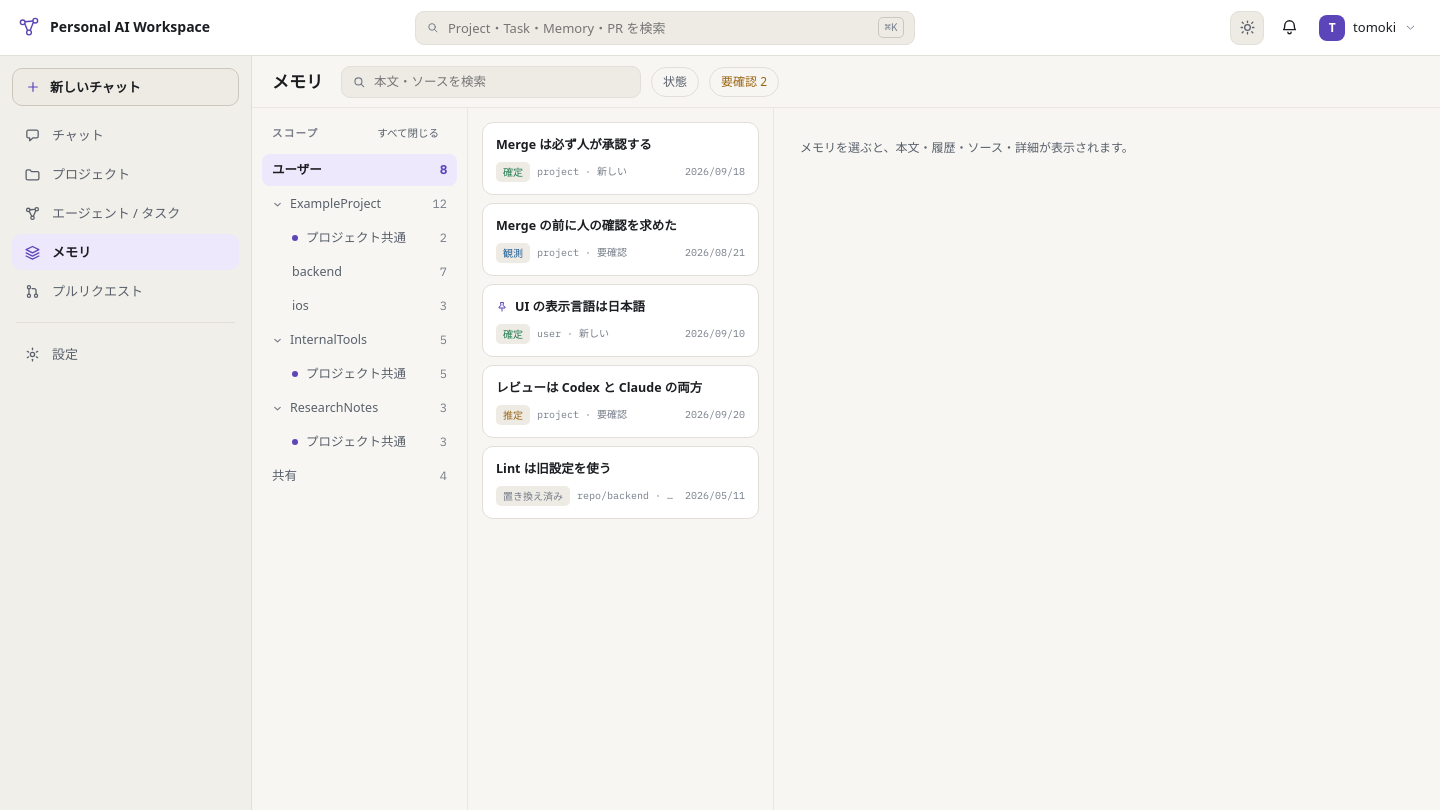
Test: Memory screen › filters by status and by 要確認
Click the button "要確認 2" at (744, 82), box [709,66,779,96]
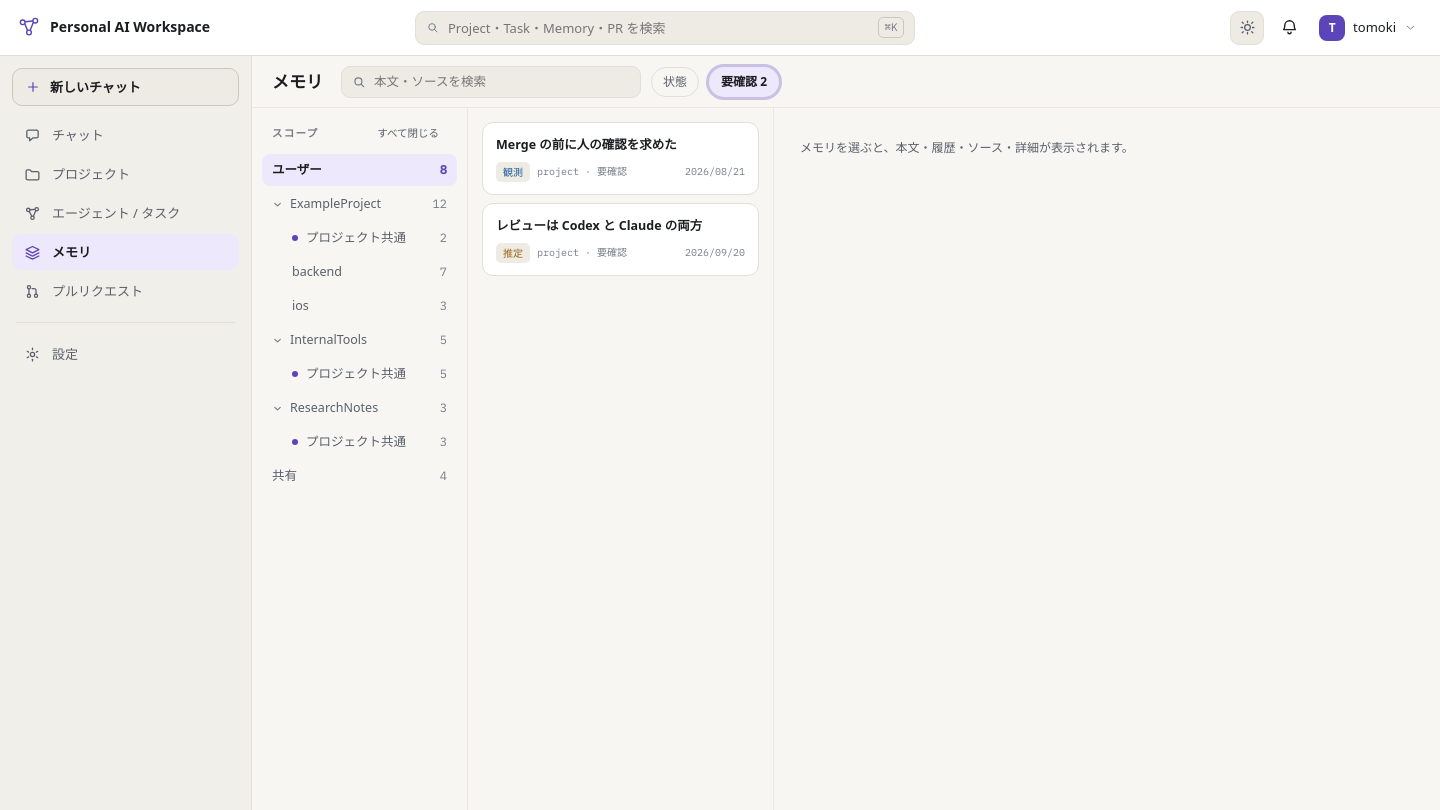
Click the button "要確認 2" at (744, 82), box [709,66,779,96]
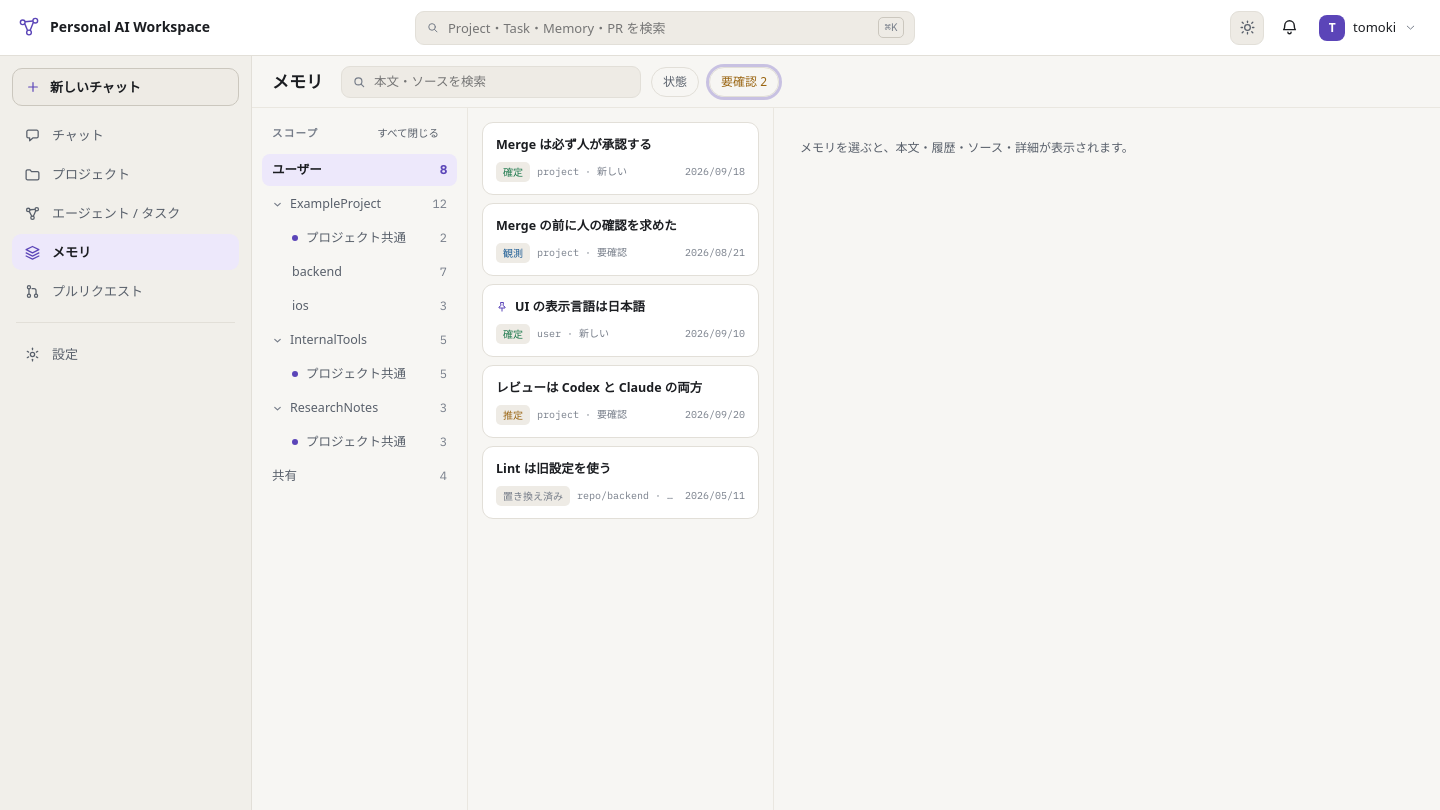
Click the button "状態" at (675, 82), box [651,66,699,96]
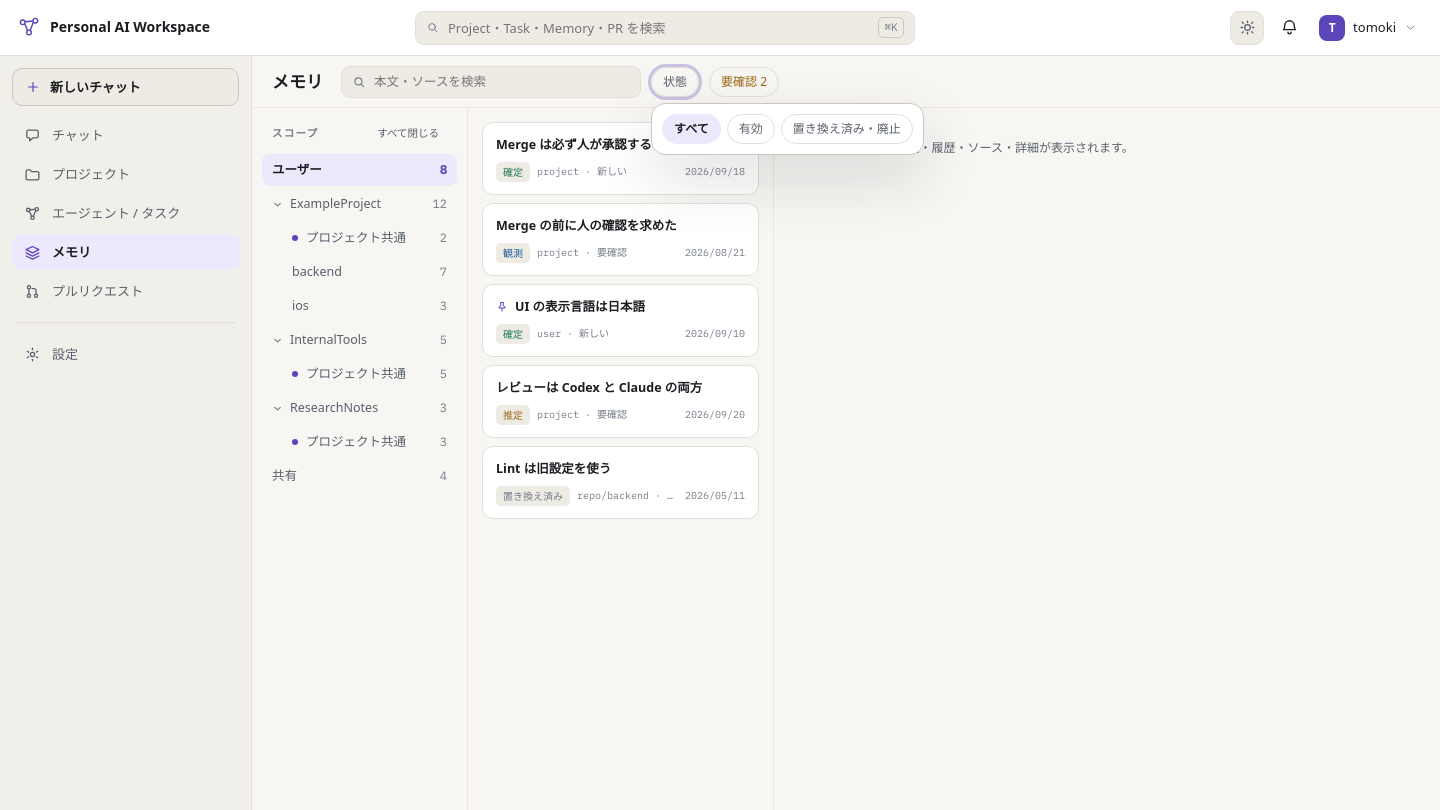
Click the button "置き換え済み・廃止" at (847, 128), box [781,114,913,144]
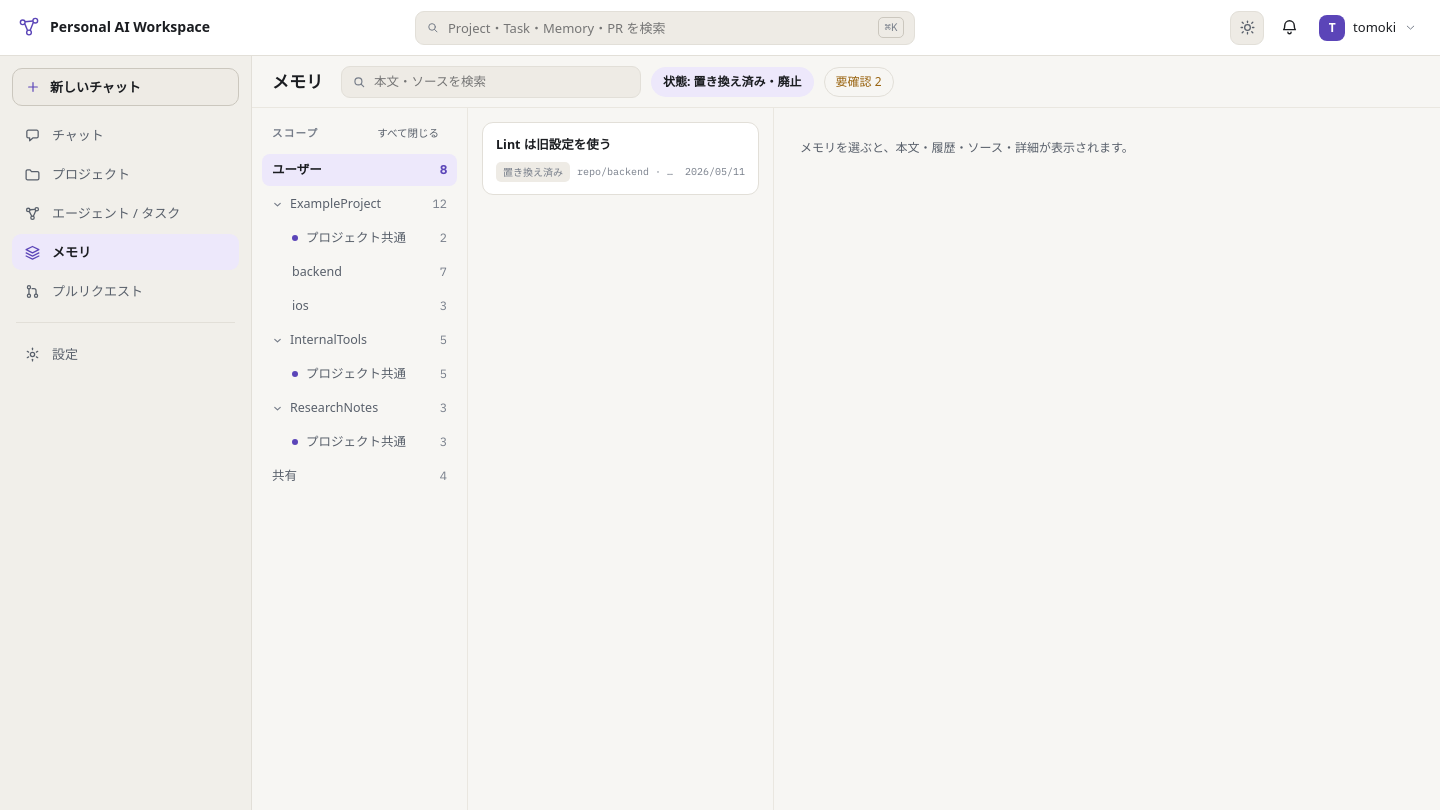
Expected: the button "状態: 置き換え済み・廃止" is shown, [651,66,814,96]
